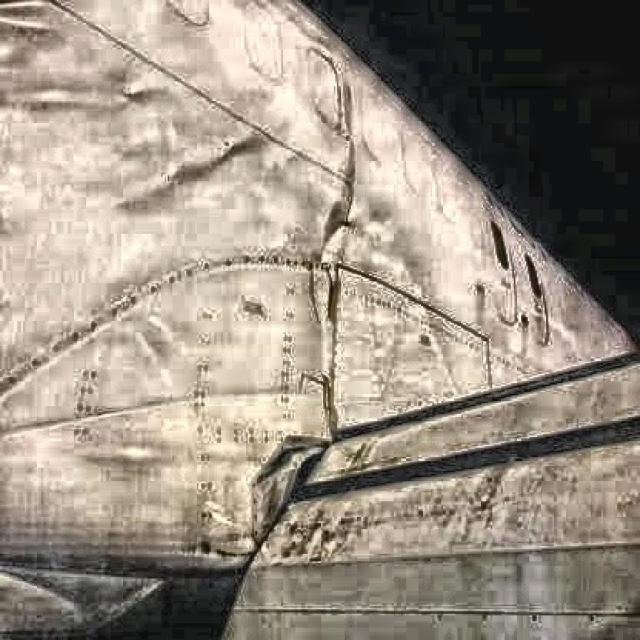dent: (112, 86, 277, 197), (314, 192, 437, 325), (74, 421, 174, 470), (4, 67, 103, 109), (135, 317, 195, 386), (6, 2, 74, 58)
